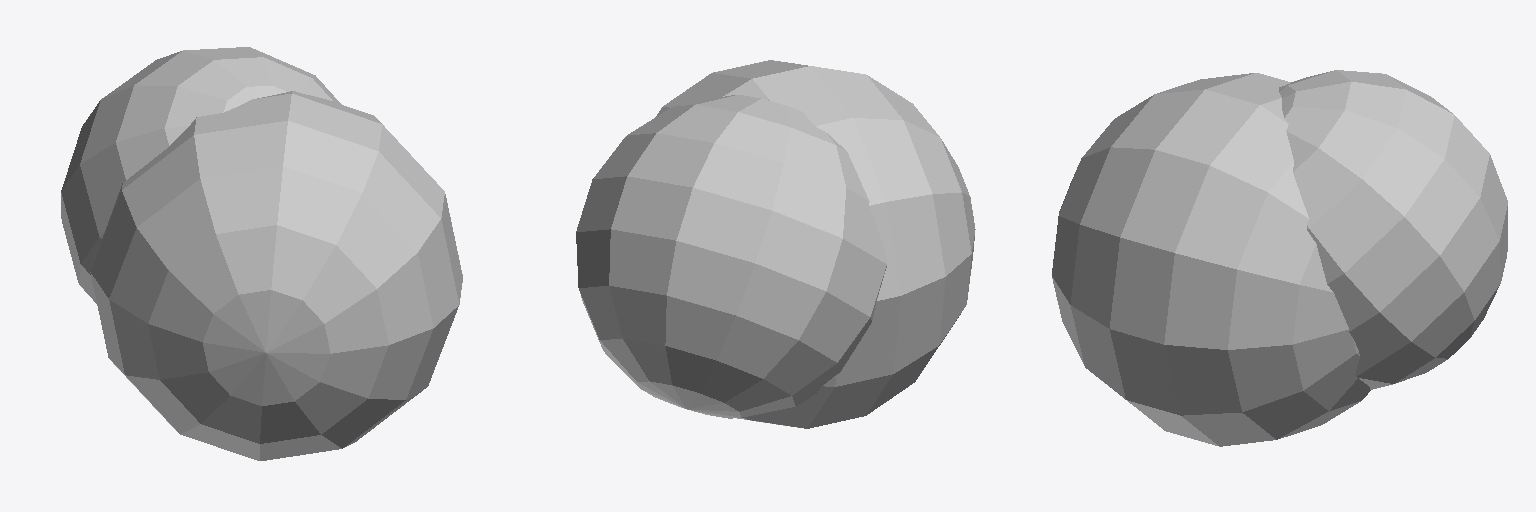
3 views of the same model, side by side, from view 1: azimuth 30°, elevation 25°; view 2: azimuth 150°, elevation 25°; view 3: azimuth 270°, elevation 25° (orthographic).
Visible parts, largest first — view 1: bubbles9_group[number redacted]; view 2: bubbles9_group[number redacted]; view 3: bubbles9_group[number redacted].
Part boxes in pixels (x1,y1,x2,y2): bubbles9_group[number redacted]: (61,47,462,460); bubbles9_group[number redacted]: (576,60,975,428); bubbles9_group[number redacted]: (1052,70,1507,446).
Size of the model in its own units: 0.4138 by 0.4177 by 0.5041.